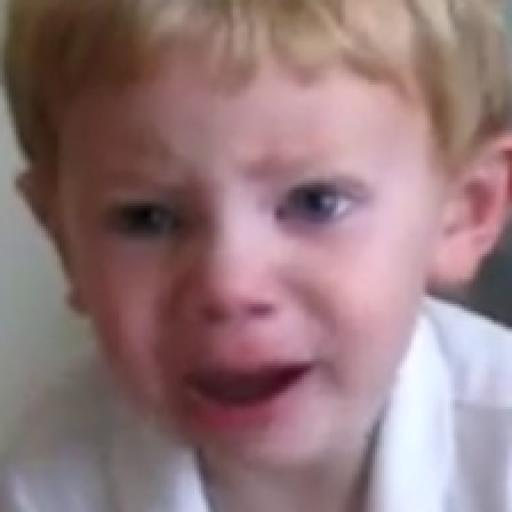Autism: (31, 18, 478, 456)
